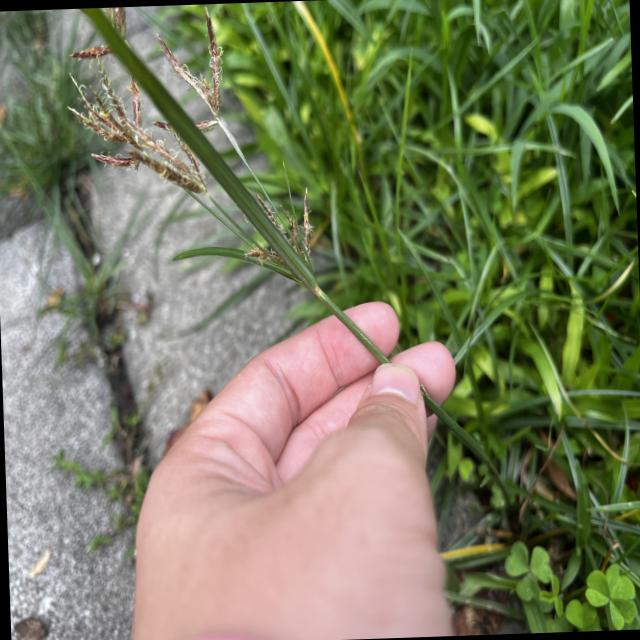cyperus: (58, 0, 324, 305)
